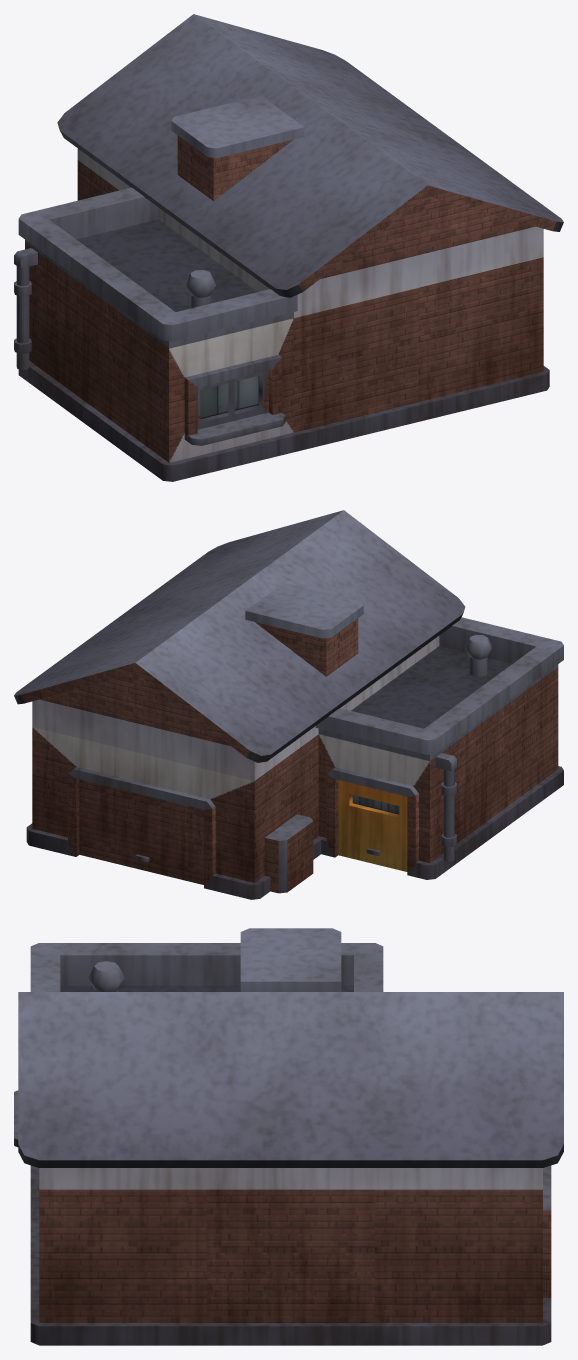
The model's file is building-h-brown.glb.
3 views of the same model, one above another, from view 1: azimuth 30°, elevation 25°; view 2: azimuth 150°, elevation 25°; view 3: azimuth 270°, elevation 25° (orthographic). The views are drawn at different scales.
Visible parts, largest first — view 1: building-h; view 2: building-h; view 3: building-h.
Boxes of the visible parts, x1,y1,x2,y2 form: building-h: [14, 14, 563, 481]; building-h: [14, 510, 563, 899]; building-h: [14, 928, 563, 1345].
Bounding box in the file's own units: 1.32 × 0.7335 × 1.31.
Materials: 1 (1 with a texture image).
